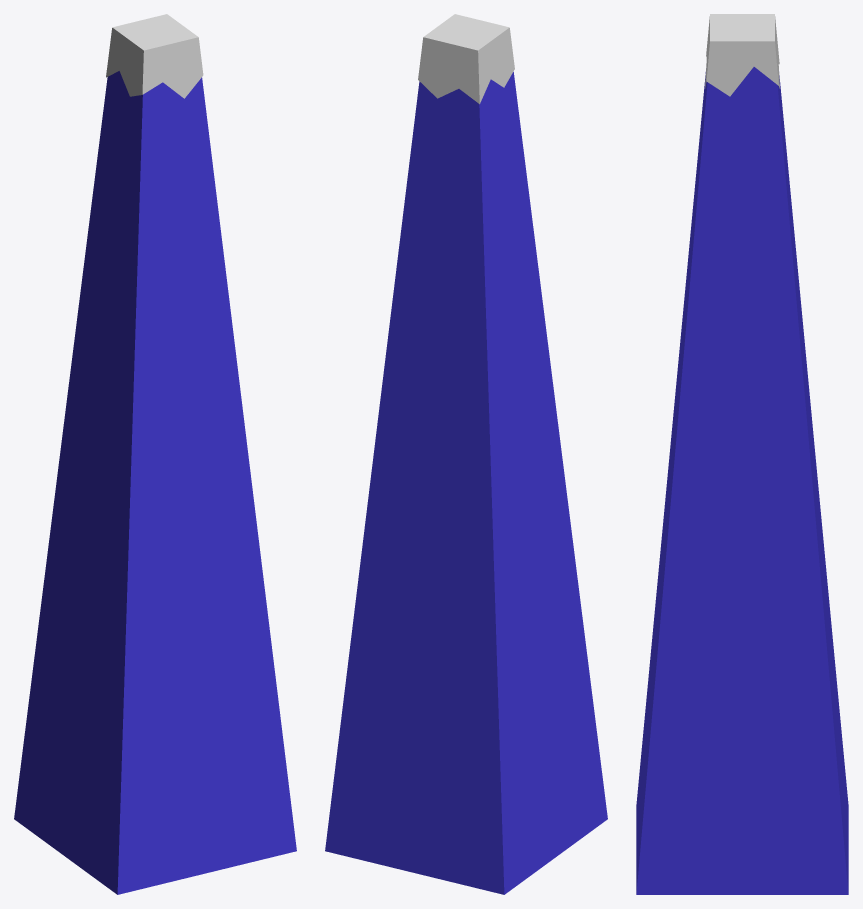
The model's file is mountain001.fbx.
3 views of the same model, side by side, from view 1: azimuth 30°, elevation 25°; view 2: azimuth 150°, elevation 25°; view 3: azimuth 270°, elevation 25° (orthographic). The views are drawn at different scales.
Parts seen in each view (by area): view 1: mountain001; view 2: mountain001; view 3: mountain001.
Boxes of the visible parts, bbox=[...] form: mountain001: bbox=[14, 14, 296, 894]; mountain001: bbox=[325, 14, 607, 894]; mountain001: bbox=[636, 14, 848, 894].
Bounding box in the file's own units: 676 × 2892 × 676.
